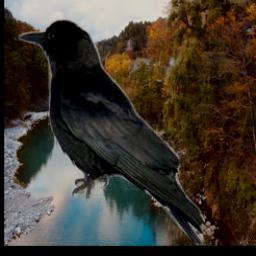Crow: (16, 18, 206, 246)
